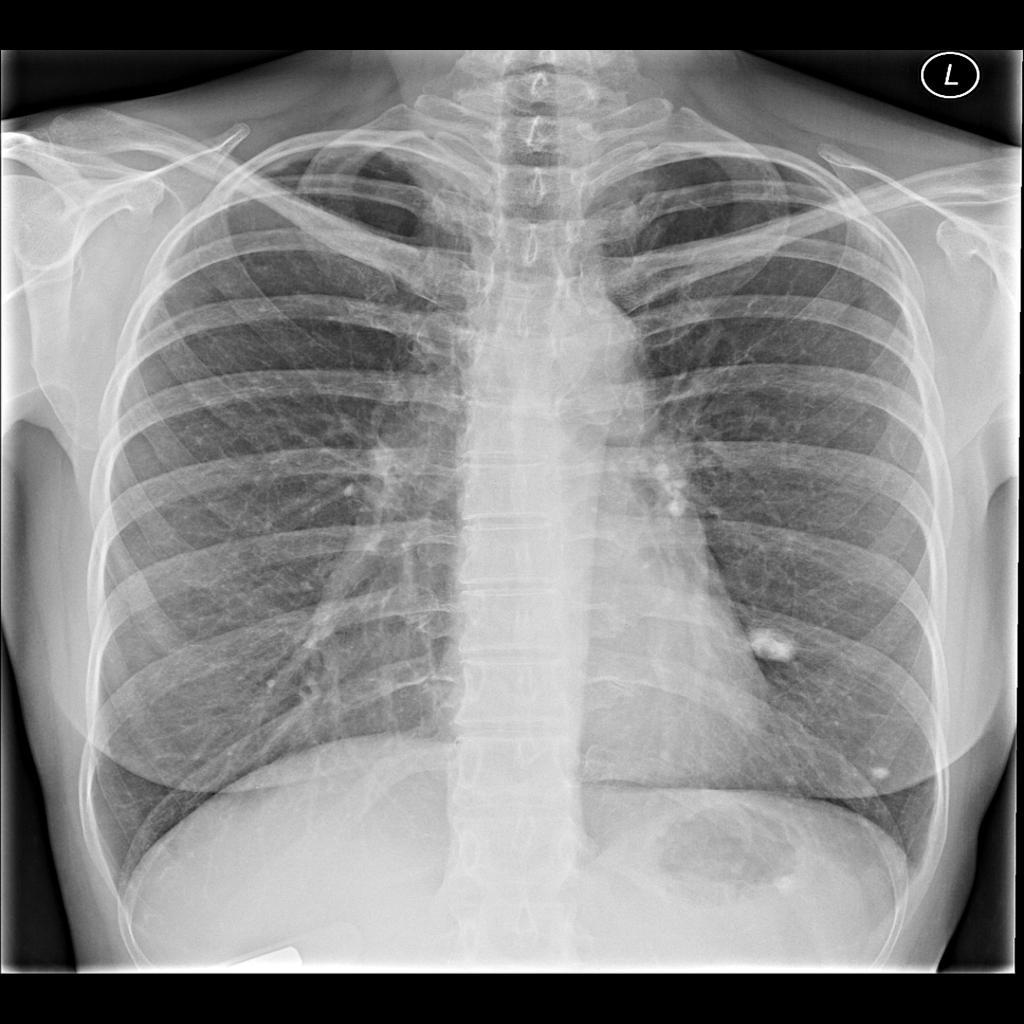Nodule: (743, 610, 818, 682), (862, 754, 909, 791)
